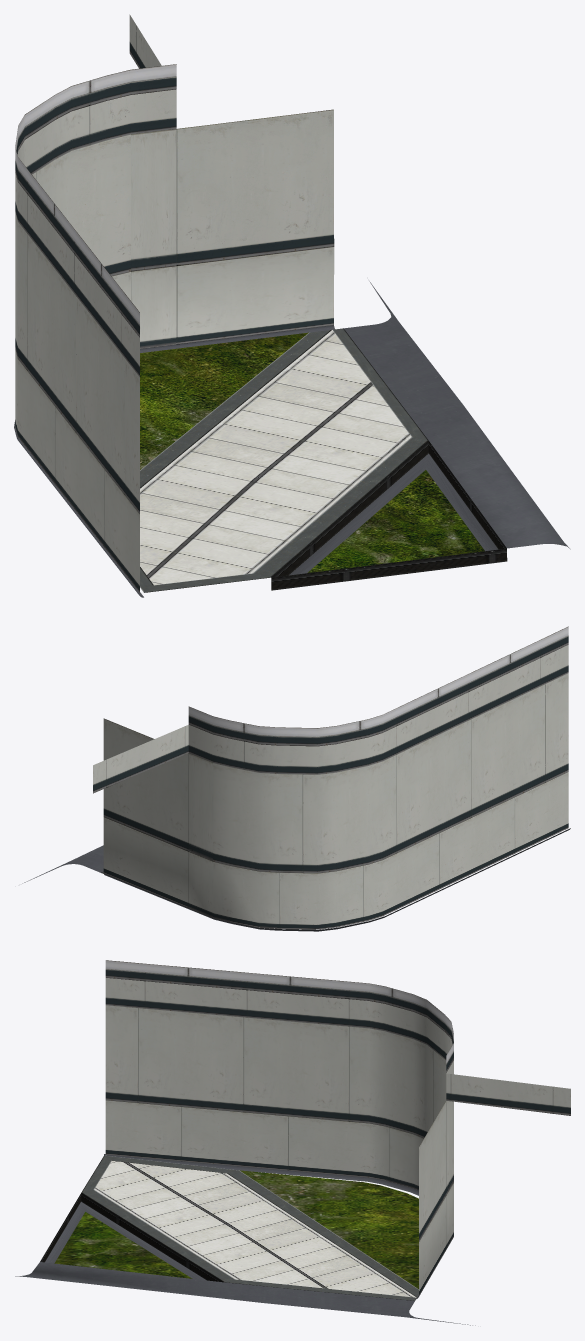
File: STA20_StoreExt01.FBX
3 views of the same model, one above another, from view 1: azimuth 30°, elevation 25°; view 2: azimuth 150°, elevation 25°; view 3: azimuth 270°, elevation 25° (orthographic). The views are drawn at different scales.
Parts seen in each view (by area): view 1: STA20_StoreExt01; view 2: STA20_StoreExt01; view 3: STA20_StoreExt01.
Boxes of the visible parts, x1=… form: STA20_StoreExt01: x1=14, y1=14, x2=570, y2=597; STA20_StoreExt01: x1=22, y1=626, x2=570, y2=931; STA20_StoreExt01: x1=15, y1=960, x2=570, y2=1325.
Size of the model in its own units: 19.66 by 11.07 by 27.31.
